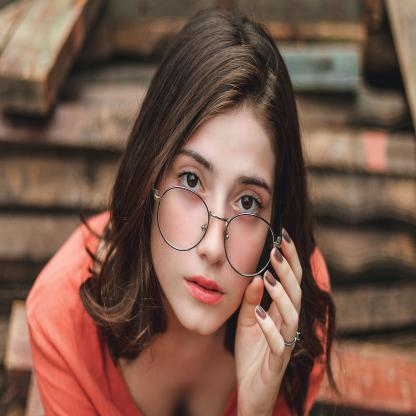Eye: (173, 164, 211, 198), (231, 186, 266, 216)
Mouth: (180, 271, 228, 306)
Nose: (195, 208, 227, 268)
